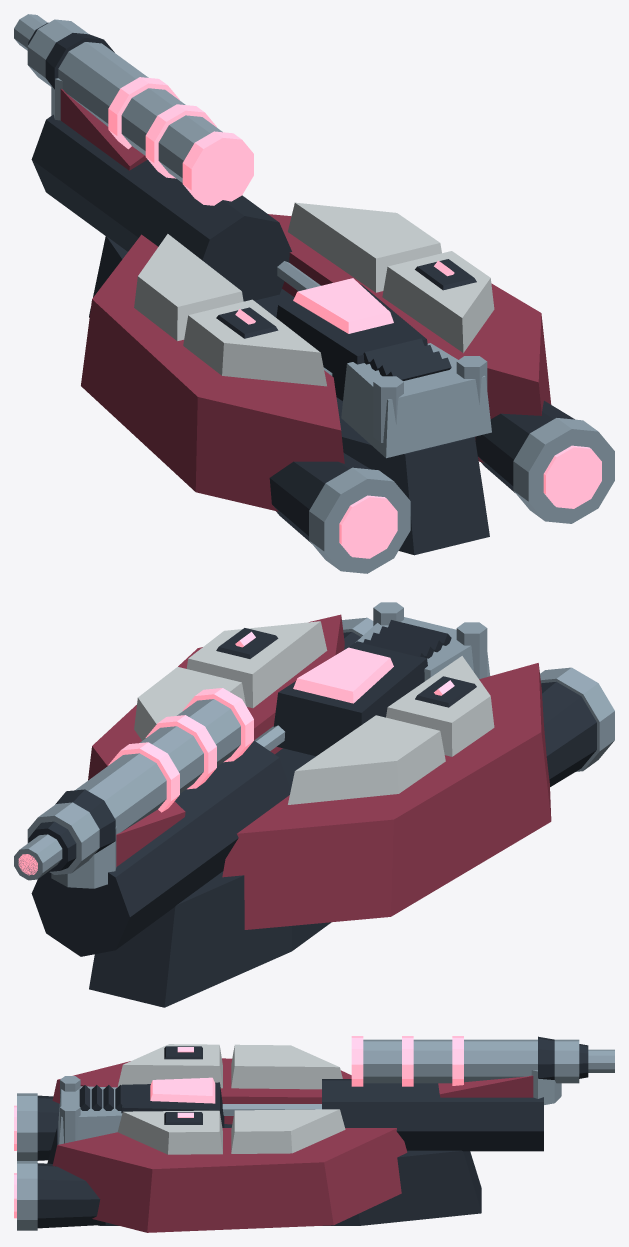
Rendered from c1_sniper.glb.
The picture shows the model from 3 angles, top to bottom: view 1: azimuth 30°, elevation 25°; view 2: azimuth 150°, elevation 25°; view 3: azimuth 270°, elevation 25°; orthographic projection. The views are drawn at different scales.
Parts seen in each view (by area): view 1: c1_sniper / Chassis, c1_sniper / Armor, c1_sniper / Titanium, c1_sniper / Identification, c1_sniper / Energy; view 2: c1_sniper / Chassis, c1_sniper / Armor, c1_sniper / Identification, c1_sniper / Titanium, c1_sniper / Energy; view 3: c1_sniper / Armor, c1_sniper / Chassis, c1_sniper / Titanium, c1_sniper / Identification, c1_sniper / Energy.
Boxes of the visible parts, x1,y1,x2,y2 form: c1_sniper / Chassis: (28,22,574,555); c1_sniper / Armor: (60,89,551,511); c1_sniper / Titanium: (14,14,614,573); c1_sniper / Identification: (134,202,494,386); c1_sniper / Energy: (108,77,601,558); c1_sniper / Chassis: (28,620,596,1007); c1_sniper / Armor: (88,614,551,929); c1_sniper / Identification: (134,621,494,804); c1_sniper / Titanium: (14,602,614,888); c1_sniper / Energy: (18,631,454,875); c1_sniper / Armor: (52,1058,533,1232); c1_sniper / Chassis: (37,1036,588,1228); c1_sniper / Titanium: (17,1039,614,1230); c1_sniper / Identification: (117,1044,345,1154); c1_sniper / Energy: (14,1036,463,1218).
Size of the model in its own units: 0.94 by 0.607 by 2.03.
